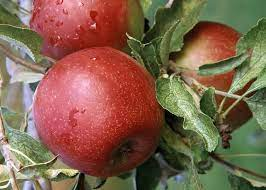apple: (29, 1, 146, 64)
